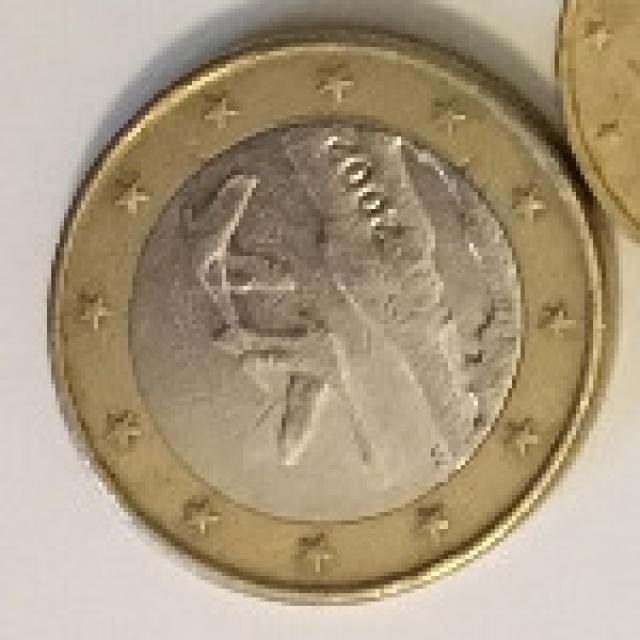1e: (51, 30, 610, 606)
